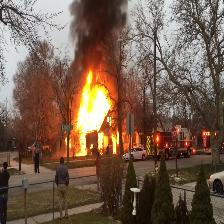fire: (75, 78, 111, 137)
smoke: (83, 2, 123, 59)
